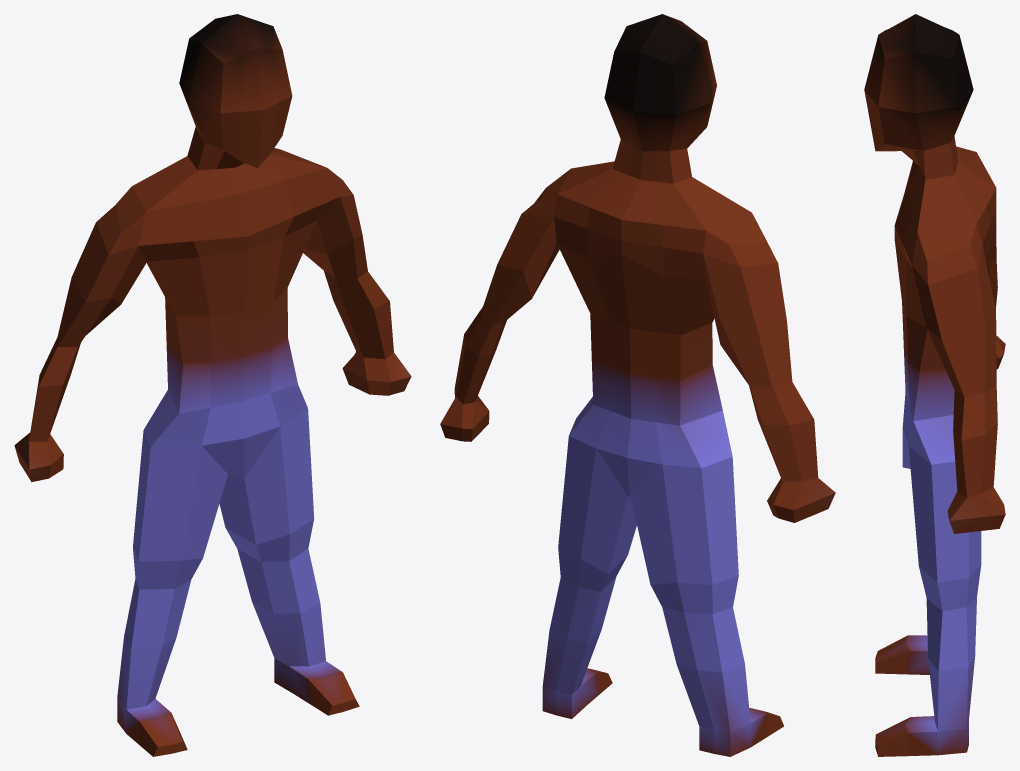
Rendered from BUFF LOW POLY  MainCharacter V1.fbx.
3 views of the same model, side by side, from view 1: azimuth 30°, elevation 25°; view 2: azimuth 150°, elevation 25°; view 3: azimuth 270°, elevation 25° (orthographic).
Visible parts, largest first — view 1: Cube; view 2: Cube; view 3: Cube.
Part boxes in pixels (<box>): Cube: <box>14,14,411,756</box>; Cube: <box>440,14,835,756</box>; Cube: <box>864,14,1005,756</box>.
Bounding box in the file's own units: 302 × 531 × 98.19.
